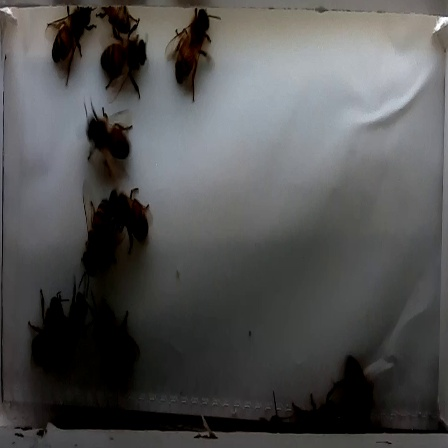bee: (84, 295, 146, 403), (28, 281, 88, 391), (310, 349, 380, 438), (68, 107, 143, 182), (165, 5, 221, 104), (90, 30, 158, 99), (43, 2, 99, 82), (75, 195, 122, 285), (104, 184, 162, 250)
